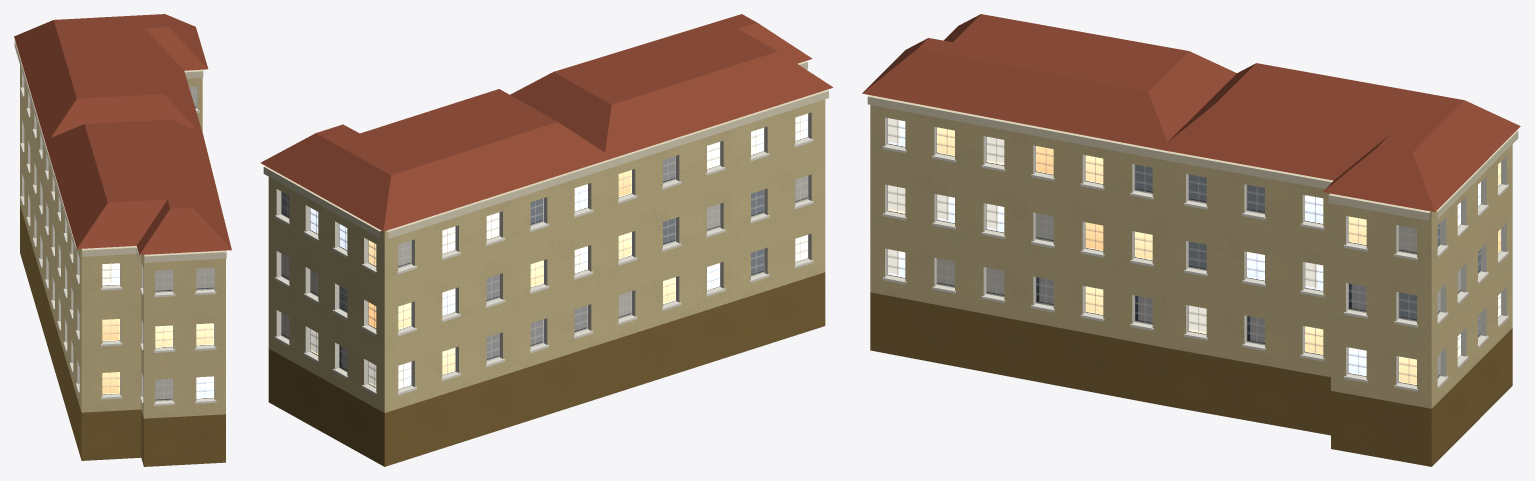
Rendered from z3b_ochre_row.glb.
The picture shows the model from 3 angles, left to right: view 1: azimuth 30°, elevation 25°; view 2: azimuth 150°, elevation 25°; view 3: azimuth 270°, elevation 25°; orthographic projection. The views are drawn at different scales.
Visible parts, largest first — view 1: z3b_ochre_row; view 2: z3b_ochre_row; view 3: z3b_ochre_row.
Boxes of the visible parts, <box> form: z3b_ochre_row: <box>14,14,231,466</box>; z3b_ochre_row: <box>260,14,833,466</box>; z3b_ochre_row: <box>862,14,1520,466</box>.
Bounding box in the file's own units: 20.61 × 15.16 × 30.8.
Materials: 3 (3 with a texture image).
